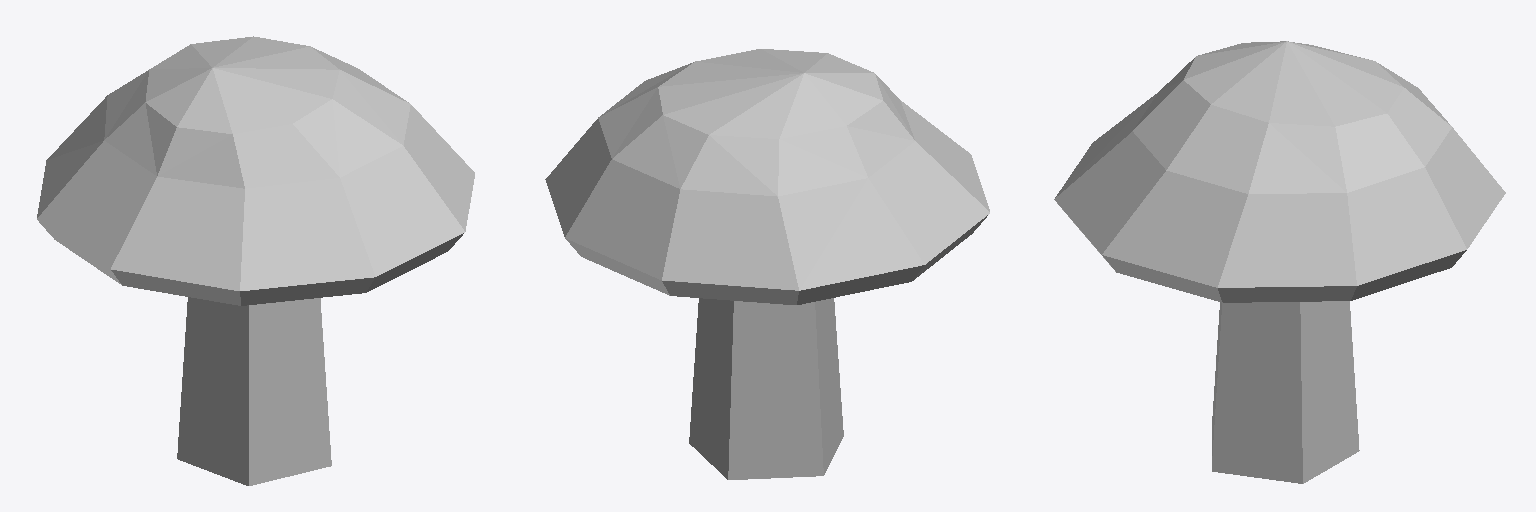
Rendered from Mushroom_1.obj.
The picture shows the model from 3 angles: view 1: azimuth 30°, elevation 25°; view 2: azimuth 150°, elevation 25°; view 3: azimuth 270°, elevation 25°; orthographic projection.
Parts seen in each view (by area): view 1: Mushroom_1; view 2: Mushroom_1; view 3: Mushroom_1.
Boxes of the visible parts, <box> form: Mushroom_1: <box>37,36,474,485</box>; Mushroom_1: <box>545,49,989,479</box>; Mushroom_1: <box>1054,41,1505,483</box>.
Size of the model in its own units: 0.204 by 0.2023 by 0.2122.